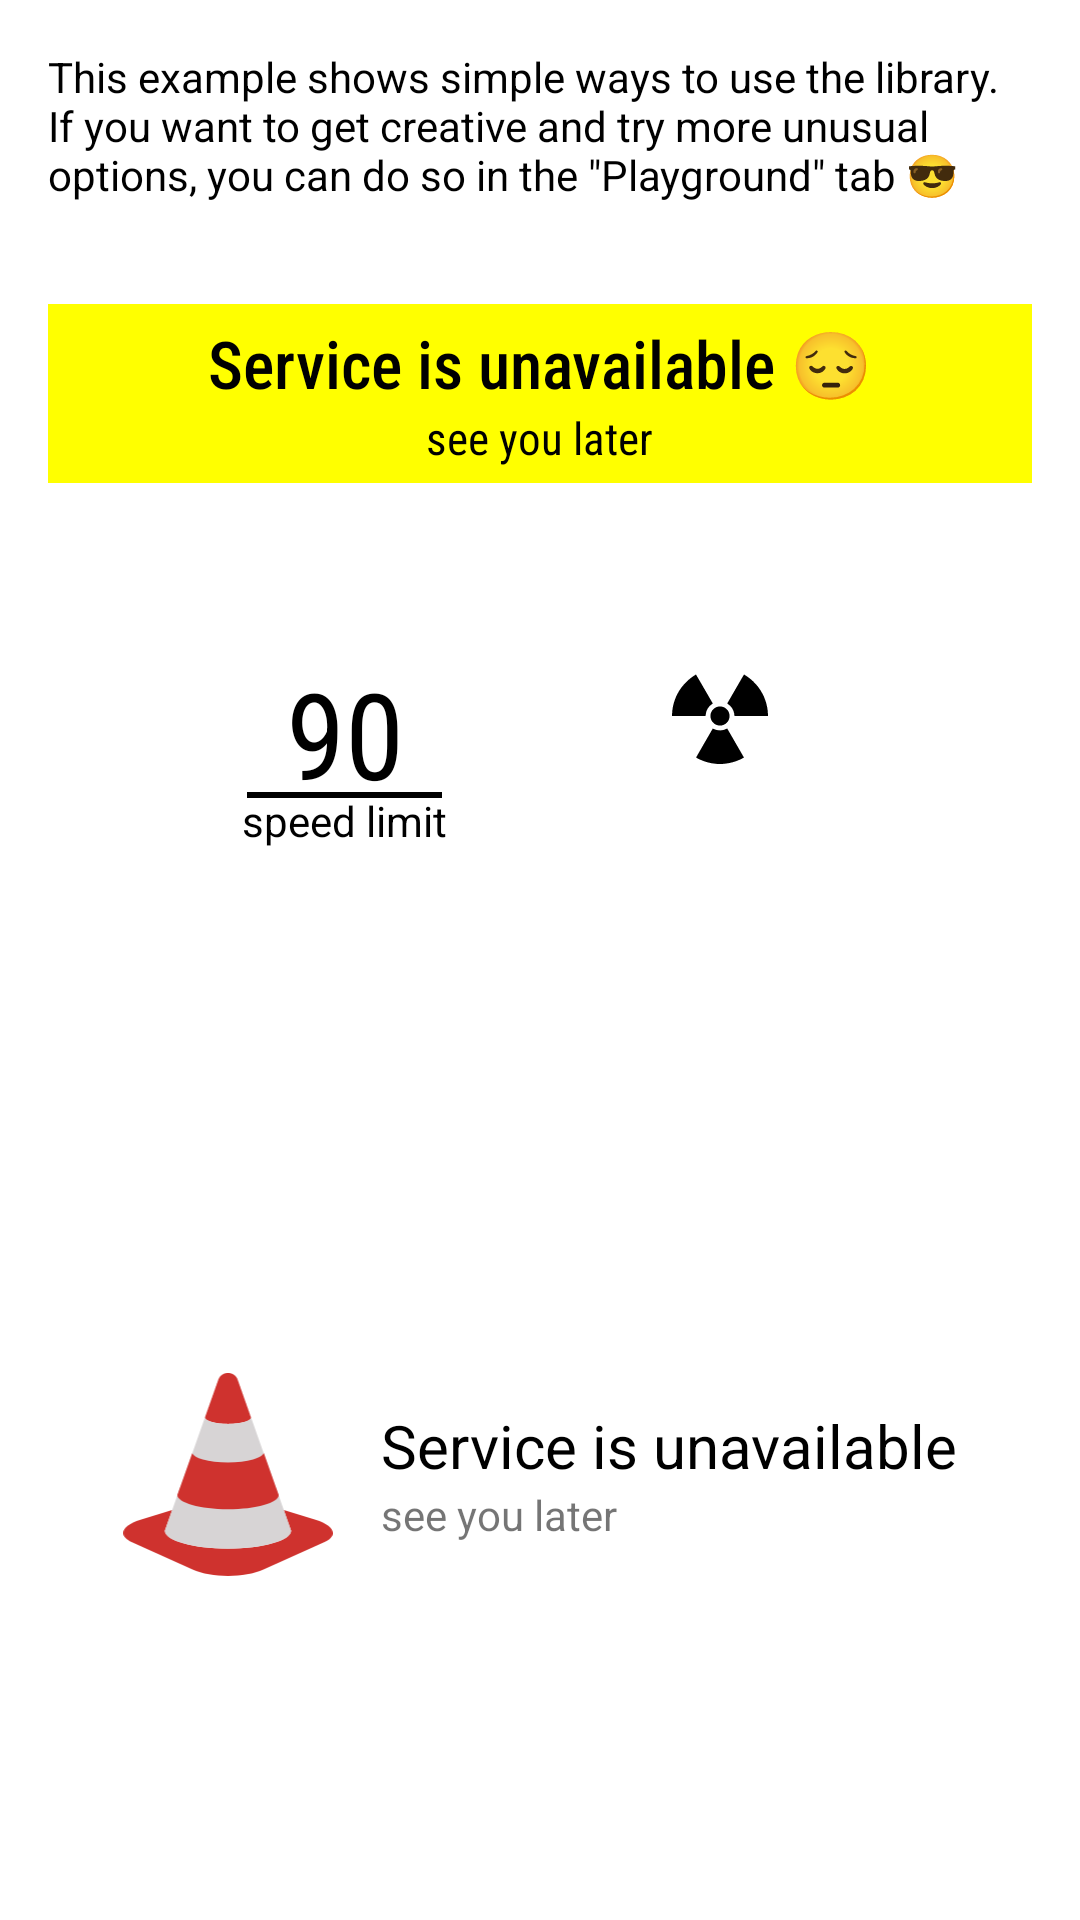

Named icons in this screenshot (1080×1920) and their bounding boxes, [x1, y1, x2, y2]:
cone: [123, 1373, 333, 1576]
radiation: [672, 674, 768, 764]
